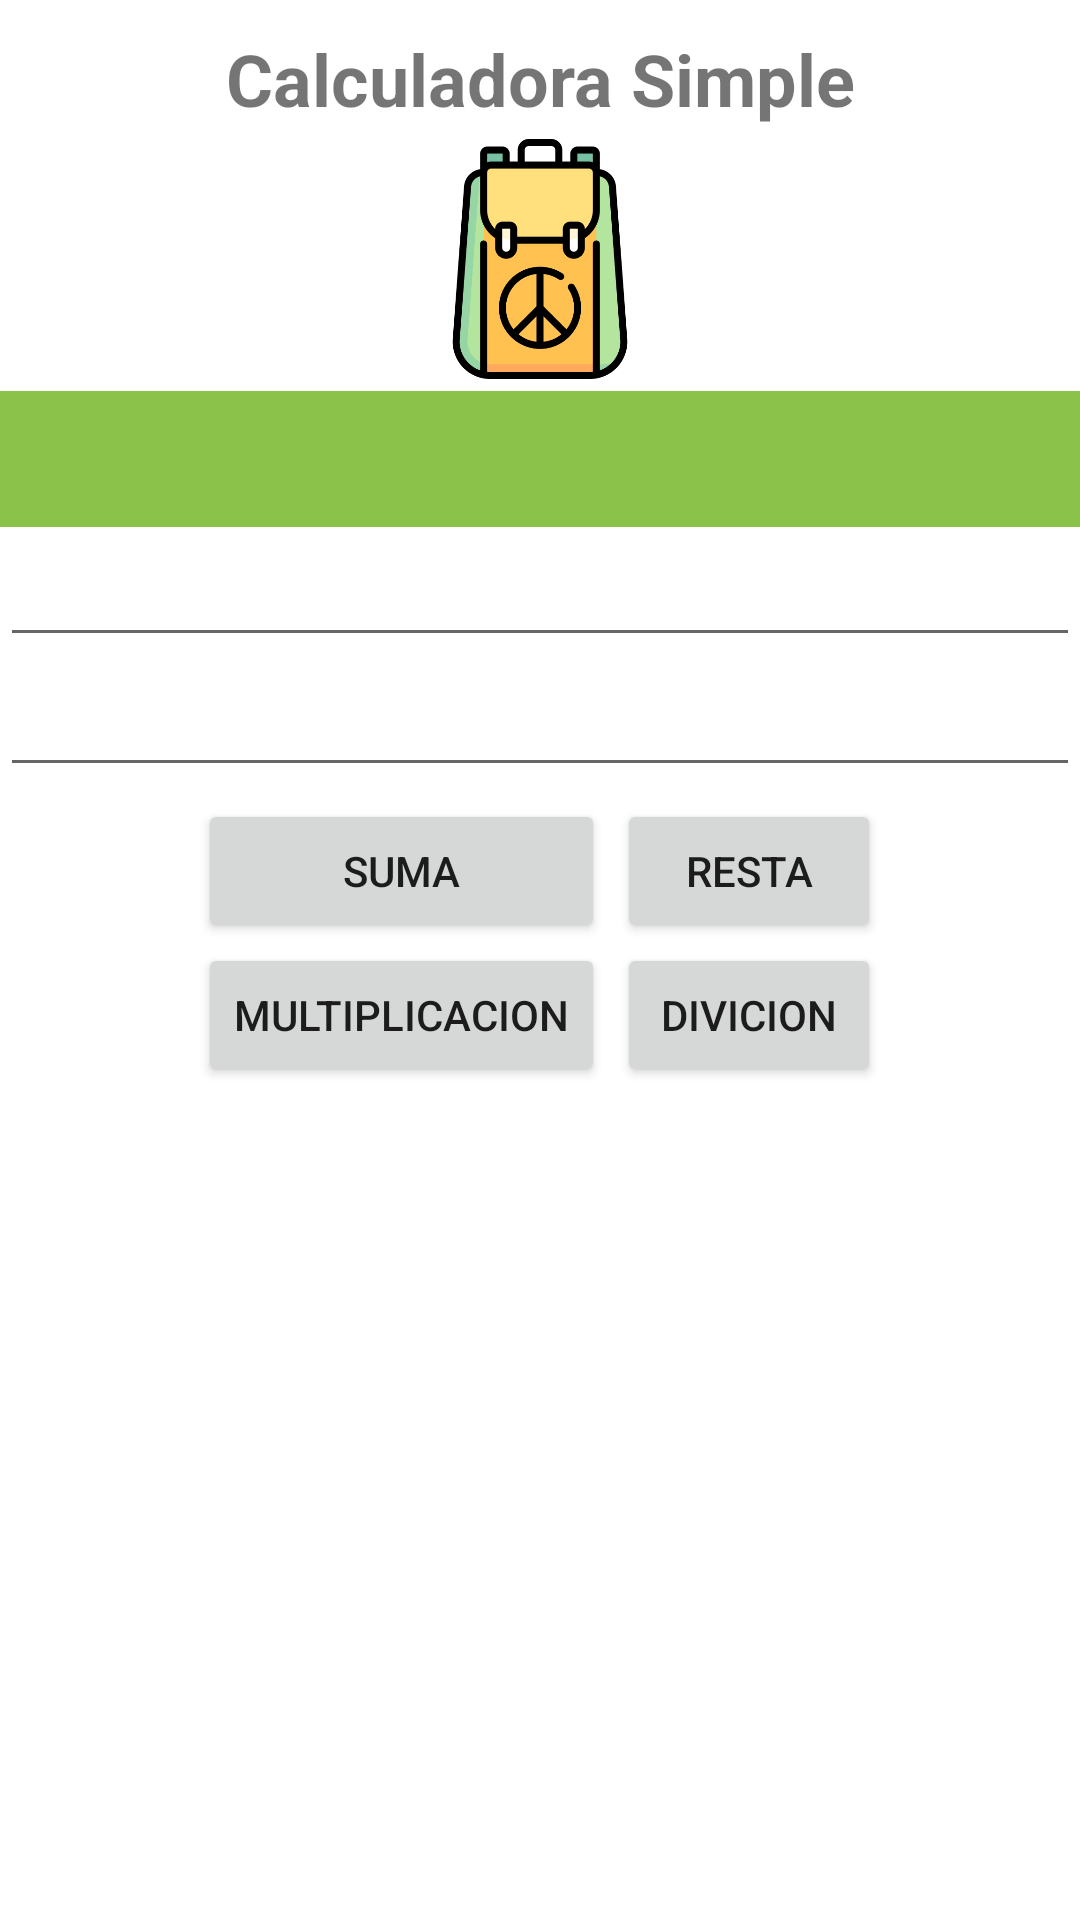

Where to tap for icons on this 1080*1920 app screen, as point (x, y):
backpack: point (540, 259)
